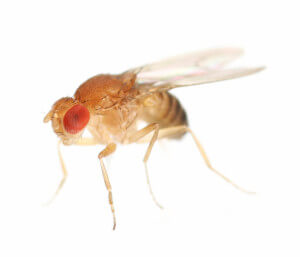phorid fly: (37, 30, 281, 238)
